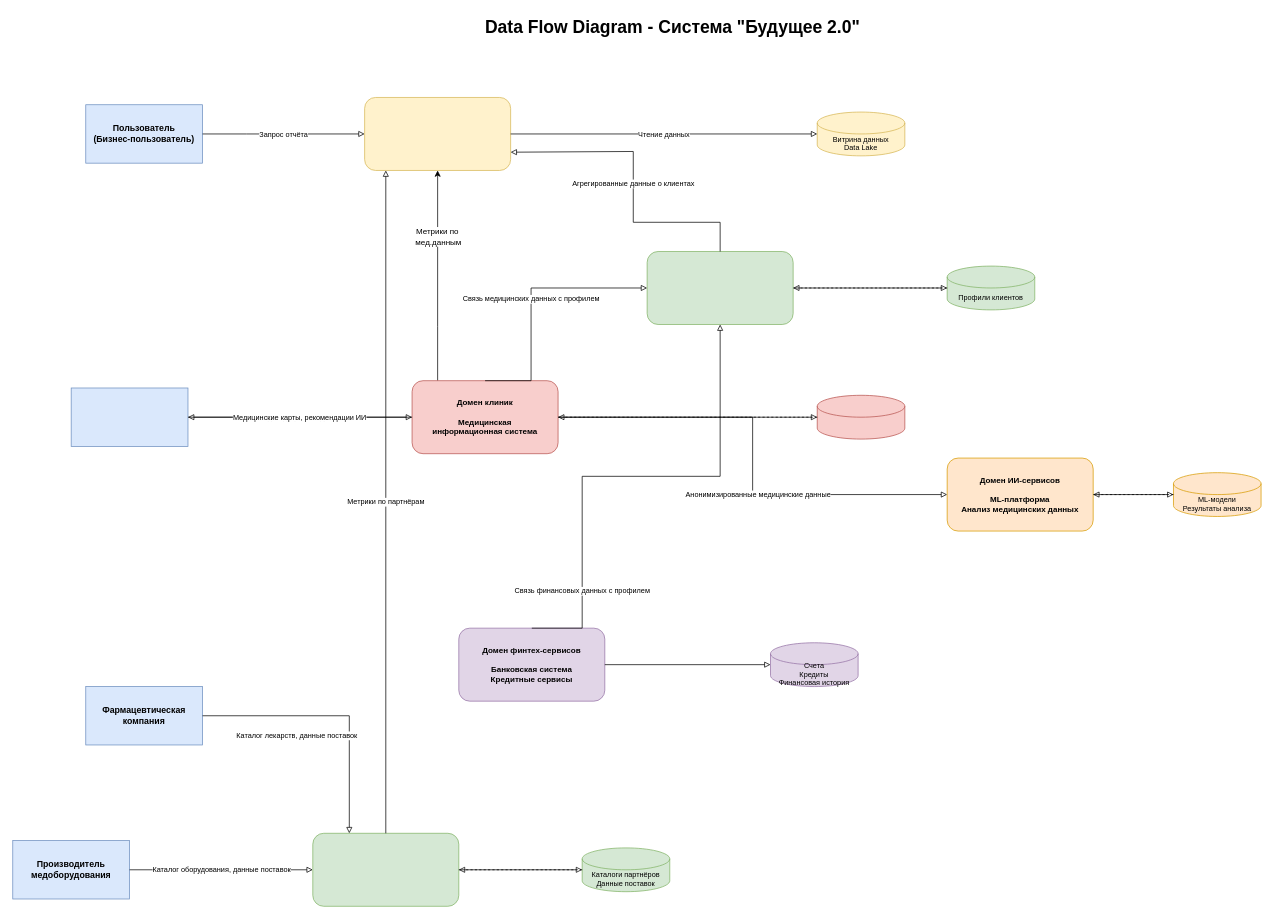
Some shapes in this 1274 by 919 pixel diagram are drawn without their labels. Here are the shapes that lost their labels. From the top down, the box of each, then its label:
(364, 97, 511, 170): Домен аналитики и витрины данных Портал самообслуживания BI-система
(646, 251, 793, 324): Домен клиентов Customer Data Platform Identity Management
(70, 387, 188, 446): Врач (Клиника)
(817, 395, 905, 439): Медицинские карты Истории болезней
(312, 833, 459, 906): Домен партнёров Интеграционная платформа API Gateway
